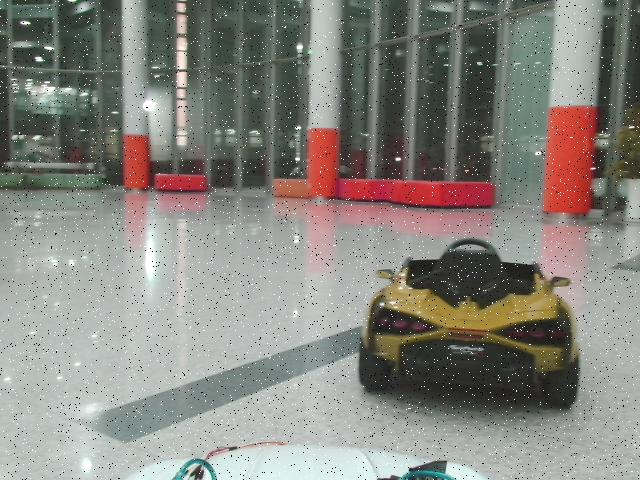car: (358, 238, 580, 409)
